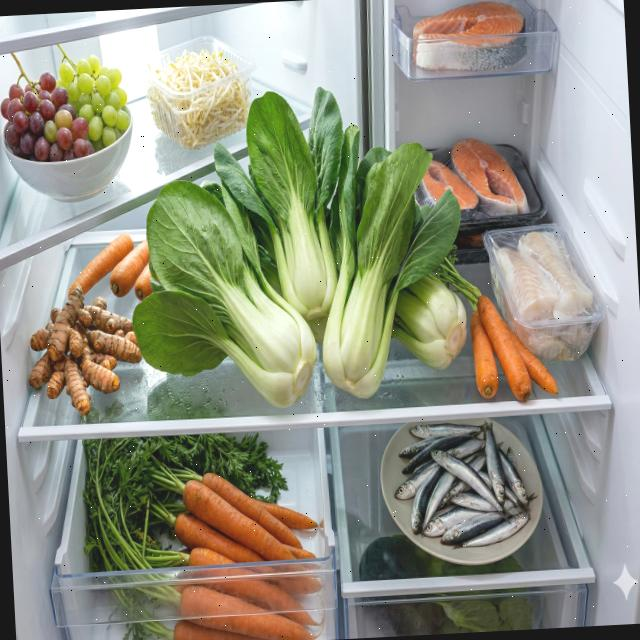bean_sprouts: (143, 44, 254, 152)
carrot: (165, 466, 326, 640), (468, 292, 559, 405), (65, 232, 156, 306)
fish: (391, 417, 542, 552), (496, 228, 598, 364), (416, 134, 530, 220), (409, 0, 528, 76)
grape: (0, 51, 132, 165)
pakchoy: (121, 79, 472, 418)
turmeric: (24, 282, 146, 419)
